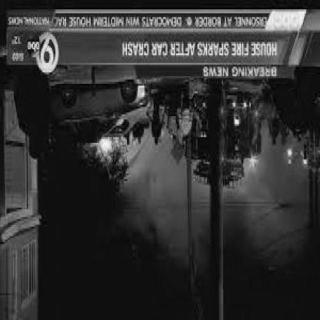Fire: (97, 138, 116, 162)
Smoke: (42, 189, 184, 317)
other: (250, 103, 262, 130)
